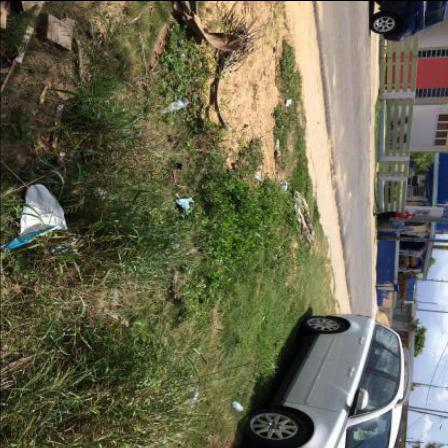Bottle: (163, 98, 190, 114), (189, 385, 199, 408), (233, 402, 244, 412), (282, 180, 288, 195)
Bottle cap: (232, 403, 236, 405)
Cup: (252, 167, 264, 181)
Plastic bag - wrapper: (2, 184, 68, 251)
Unlabeled litter: (53, 238, 79, 254), (177, 198, 193, 212), (62, 18, 76, 28), (277, 139, 281, 151), (287, 99, 292, 107)
